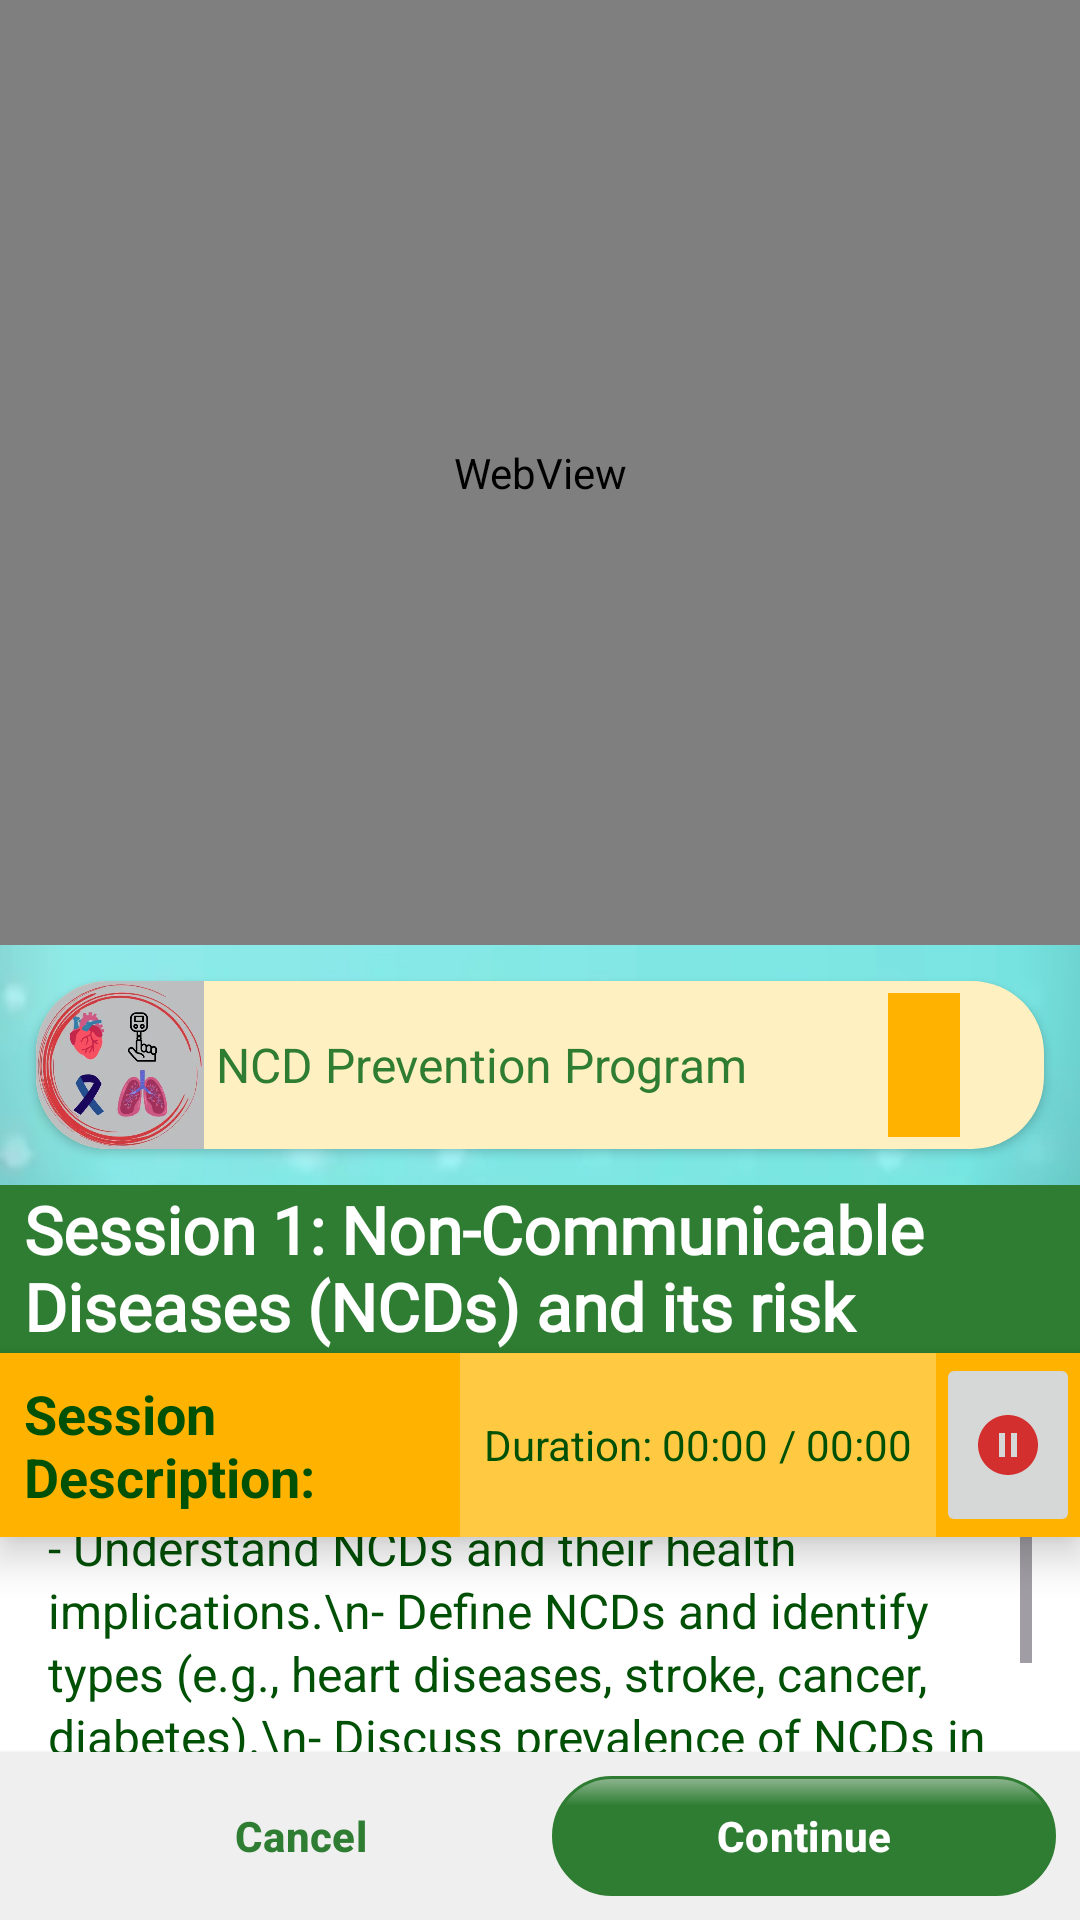

Icons on this 1080 × 1920 Android screen, each with the point to tap as [x,y]:
ncd mod: [120,1065]
pause: [1008,1445]
